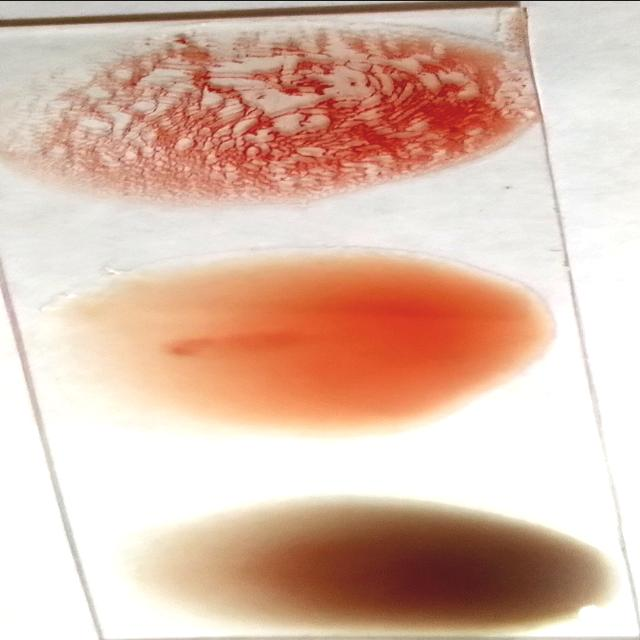D: (12, 23, 530, 185)
